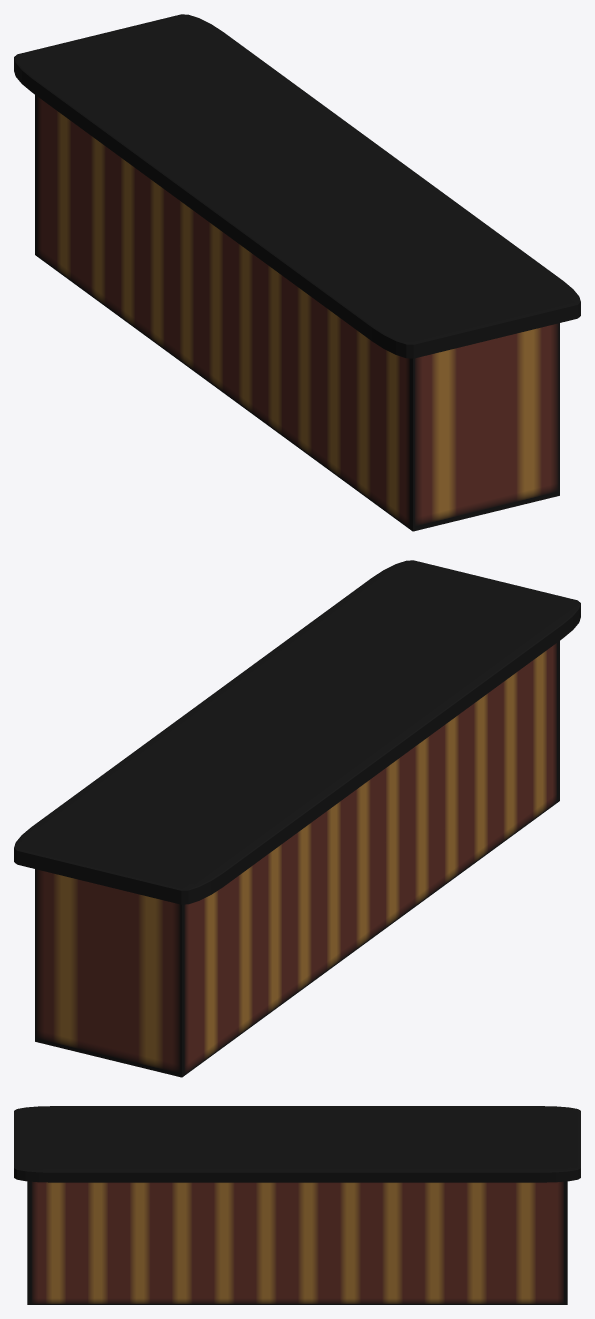
The model's file is Bar.fbx.
The picture shows the model from 3 angles, top to bottom: view 1: azimuth 30°, elevation 25°; view 2: azimuth 150°, elevation 25°; view 3: azimuth 270°, elevation 25°; orthographic projection. The views are drawn at different scales.
Parts seen in each view (by area): view 1: Bar; view 2: Bar; view 3: Bar.
Boxes of the visible parts, x1,y1,x2,y2 form: Bar: (14,14,580,531); Bar: (14,560,580,1077); Bar: (14,1106,580,1304).
Size of the model in its own units: 260 by 256 by 934.
